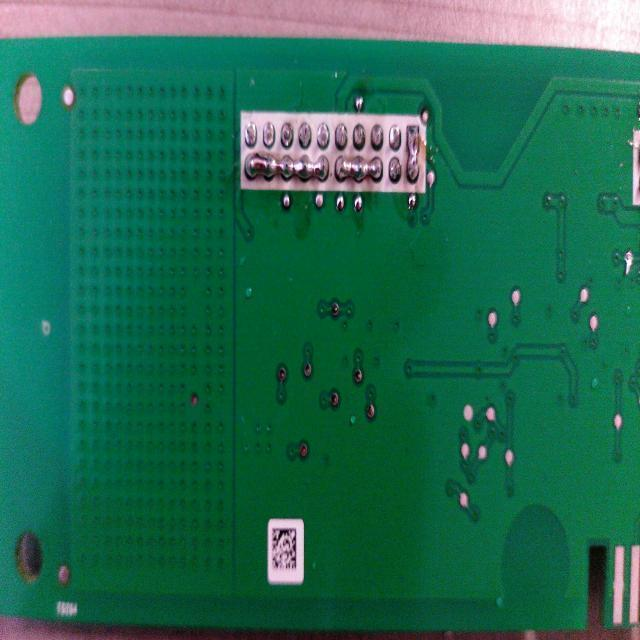Soldering shorted: (242, 152, 330, 192), (335, 155, 386, 188), (405, 120, 421, 188)
